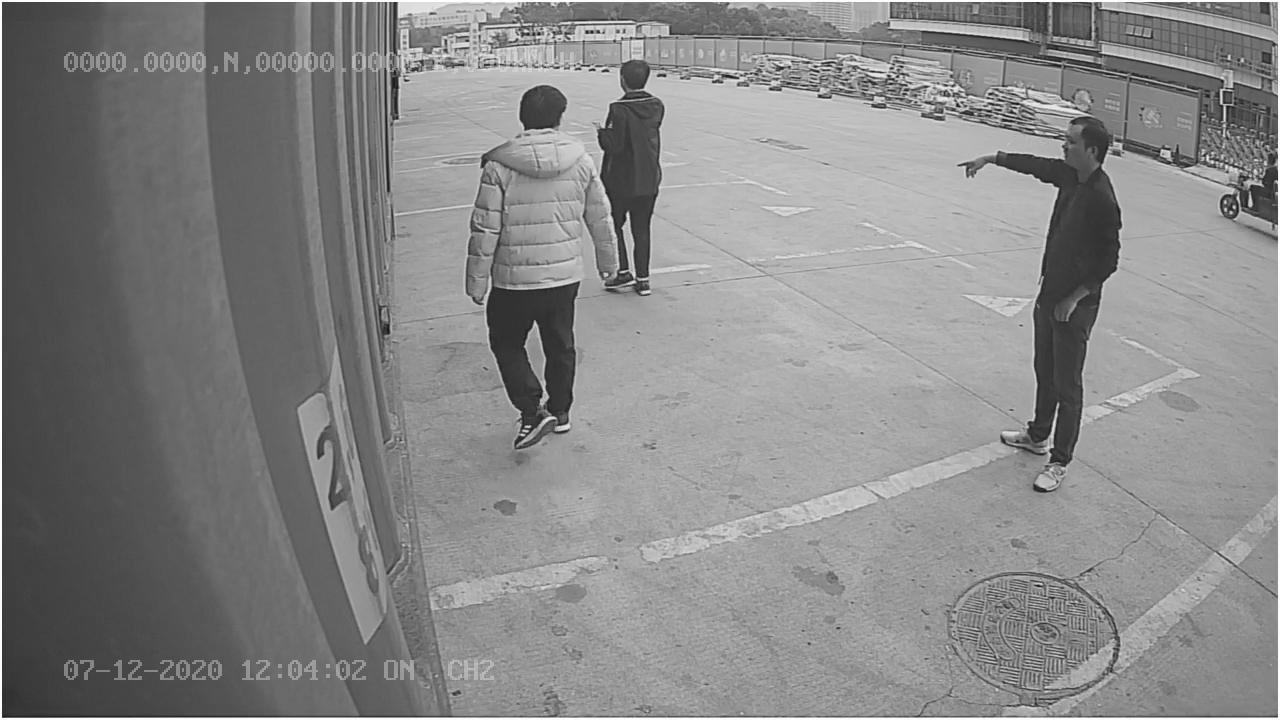person: (957, 113, 1134, 495)
